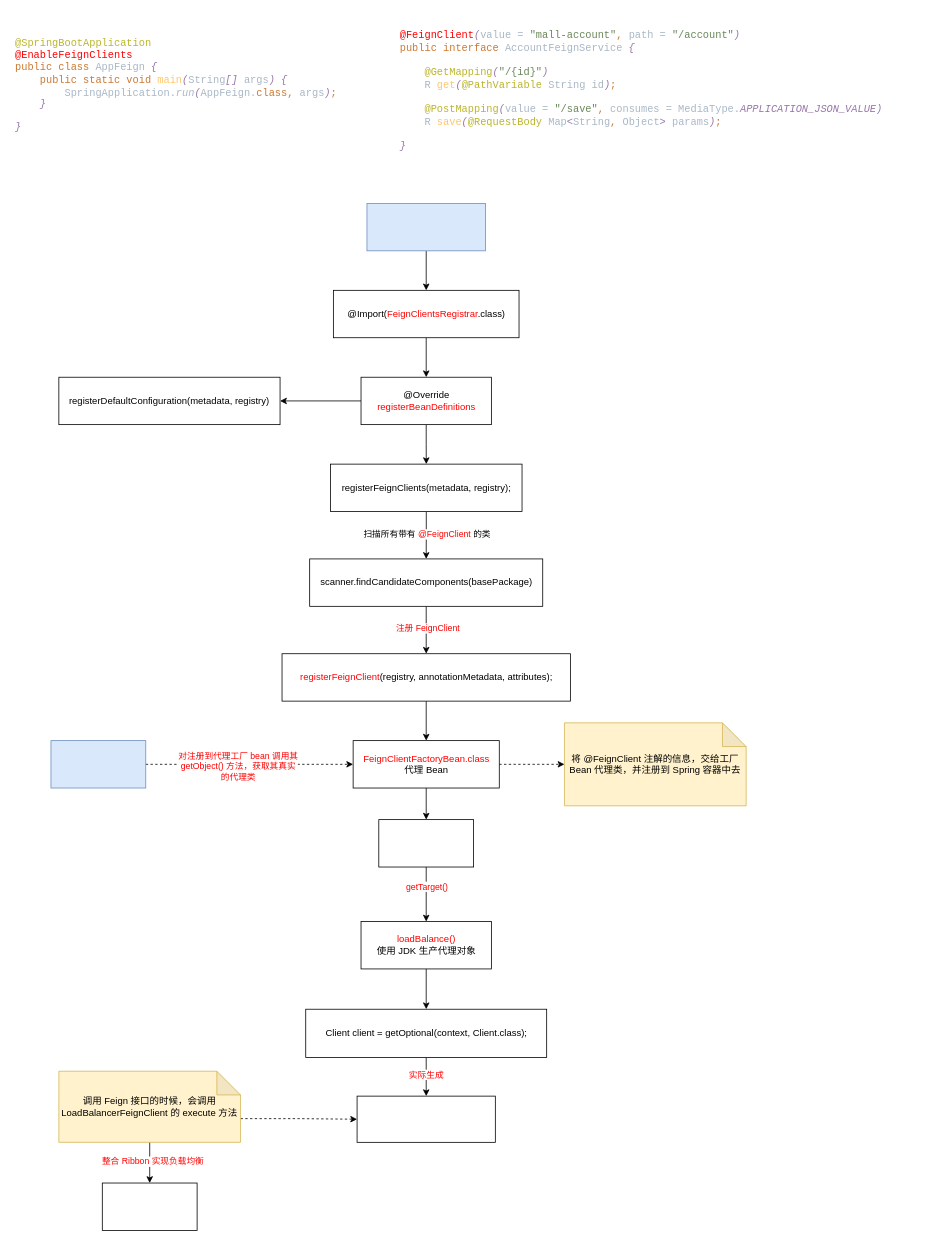
Image size: 942x1244. Some labels were removed from this diagram. The shapes that lost their labels are listed below. From the top down, each one's box as (x1, y1, x2, y2) in pixels, then its label:
(366, 203, 485, 251): @EnableFeignClients
(50, 740, 146, 788): Spring 启动时调用 refresh() 方法
(378, 819, 474, 867): getObject()
(356, 1095, 495, 1142): LoadBalancerFeignClient
(102, 1182, 197, 1230): RibbonRequst
